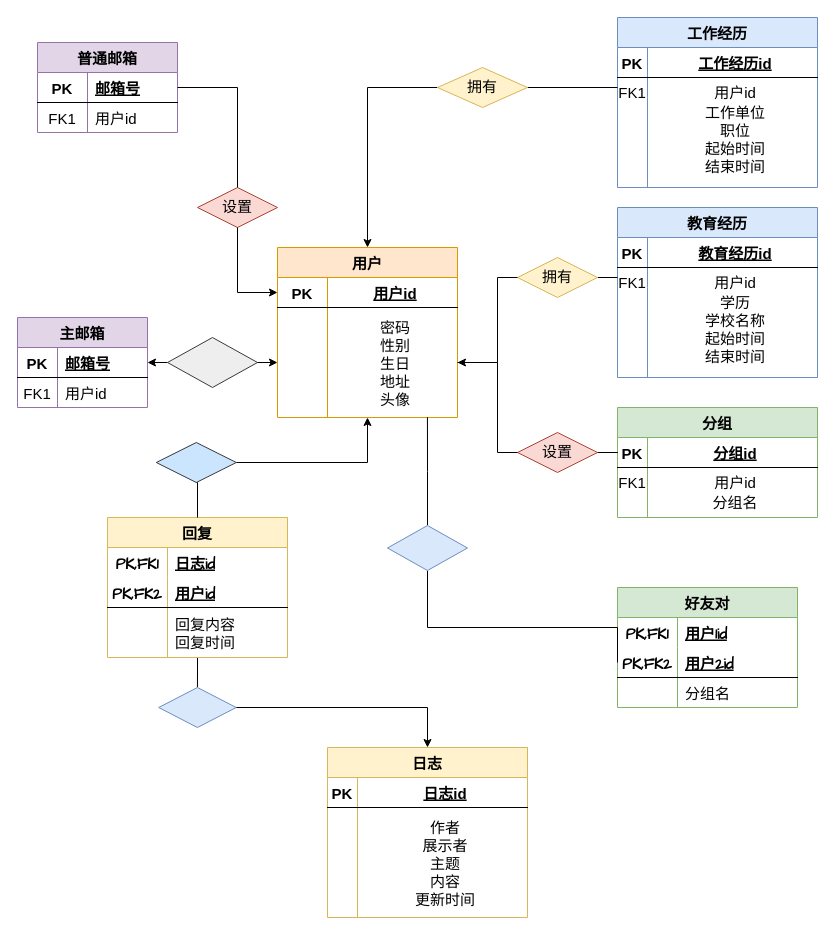
Some shapes in this 835 by 935 pixel diagram are drawn without their labels. The centre of each missing label's shape, as x and y in pixels:
"包含" belongs at [197,707].
"发表" belongs at [195,462].
"唯一标识" belongs at [212,362].
"属于" belongs at [427,547].
